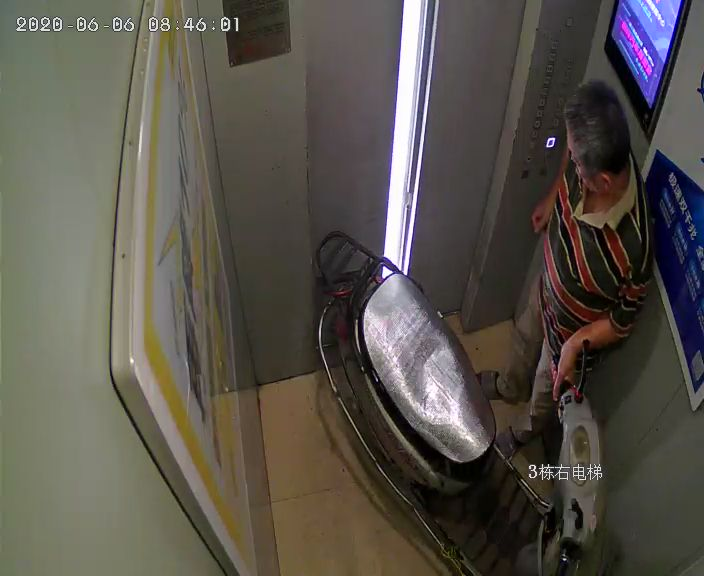Electric-bicycle: (315, 229, 602, 574)
